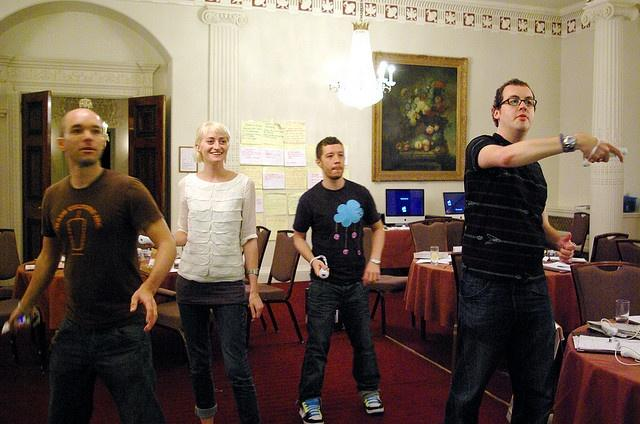AIO PC-Monitor-TV: (384, 188, 424, 223), (442, 191, 465, 220)
Kursi: (244, 229, 306, 345)
